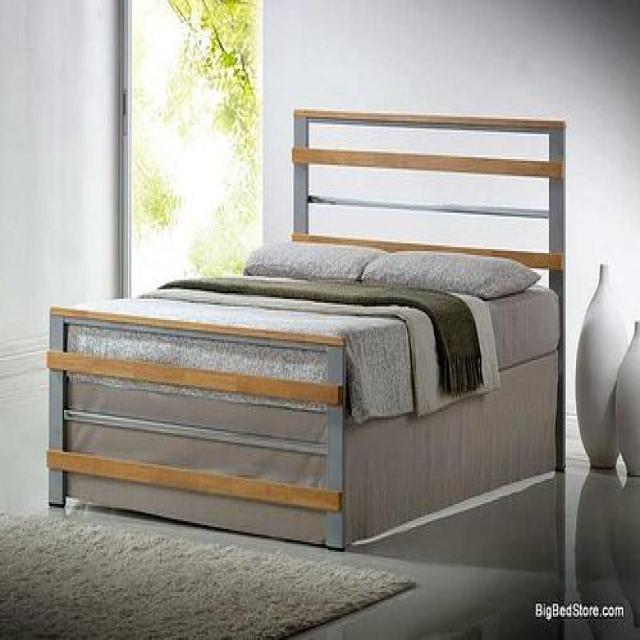bed: (47, 230, 571, 554)
